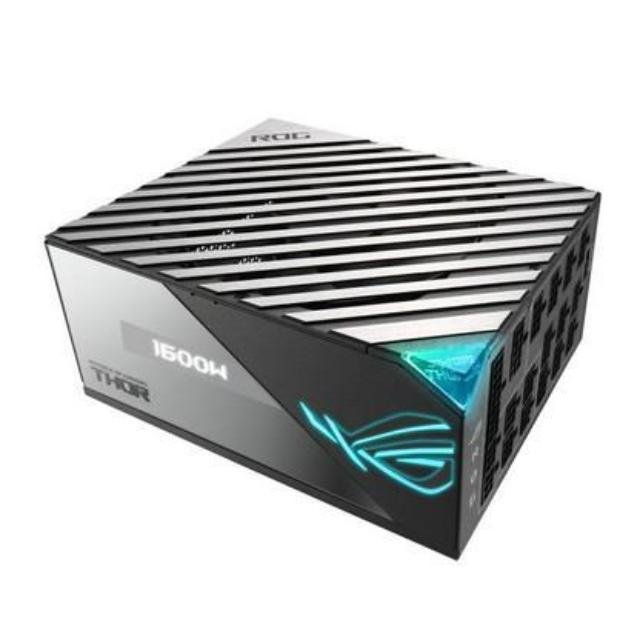PSU: (36, 102, 604, 573)
